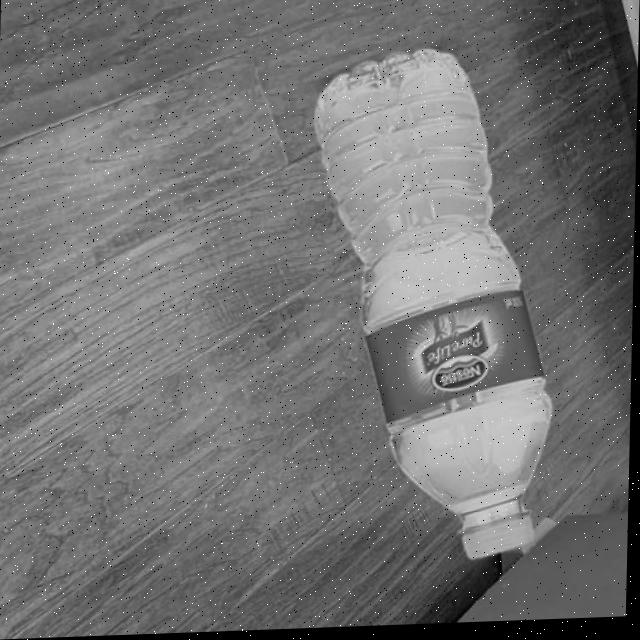bottle: (305, 46, 563, 569)
